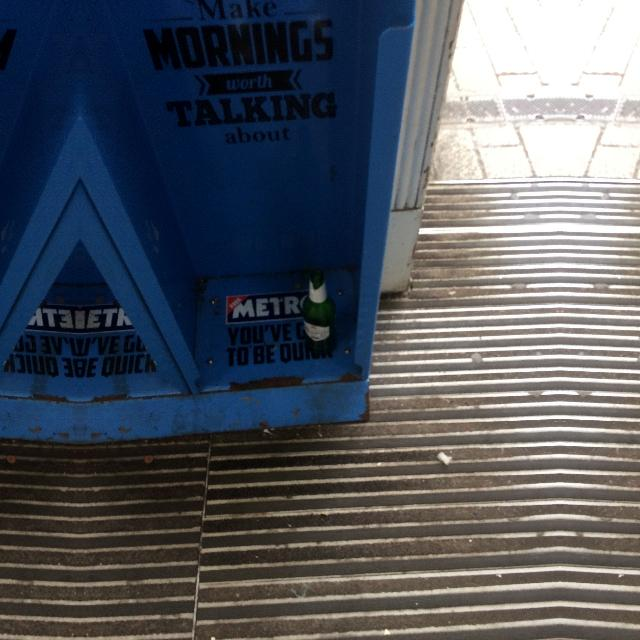Glass: (298, 266, 340, 358)
